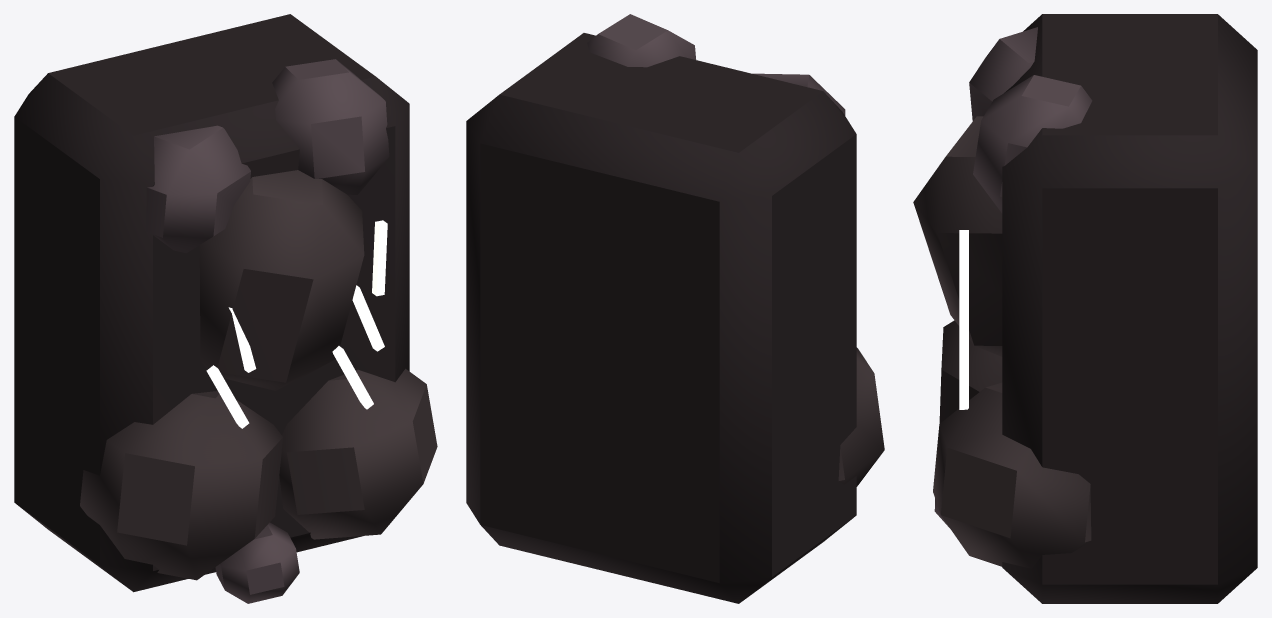
The model's file is cv_glut_wall_2.glb.
3 renders of one model, left to right at view 1: azimuth 30°, elevation 25°; view 2: azimuth 150°, elevation 25°; view 3: azimuth 270°, elevation 25°, orthographic. The views are drawn at different scales.
Visible parts, largest first — view 1: body, crack_glow; view 2: body; view 3: body, crack_glow.
Boxes of the visible parts, bbox=[...] form: body: bbox=[14, 14, 437, 603]; crack_glow: bbox=[206, 220, 387, 428]; body: bbox=[466, 14, 884, 603]; body: bbox=[913, 14, 1257, 603]; crack_glow: bbox=[959, 230, 968, 409].
Bounding box in the file's own units: 2.44 × 3.41 × 2.16.
